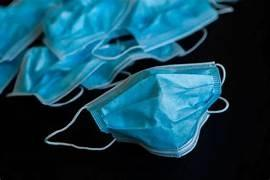Mask: (45, 62, 228, 156), (9, 43, 182, 105), (92, 0, 217, 59), (82, 30, 206, 89), (8, 47, 102, 105), (0, 0, 57, 93), (43, 0, 133, 58), (0, 0, 58, 62), (0, 56, 21, 93)
